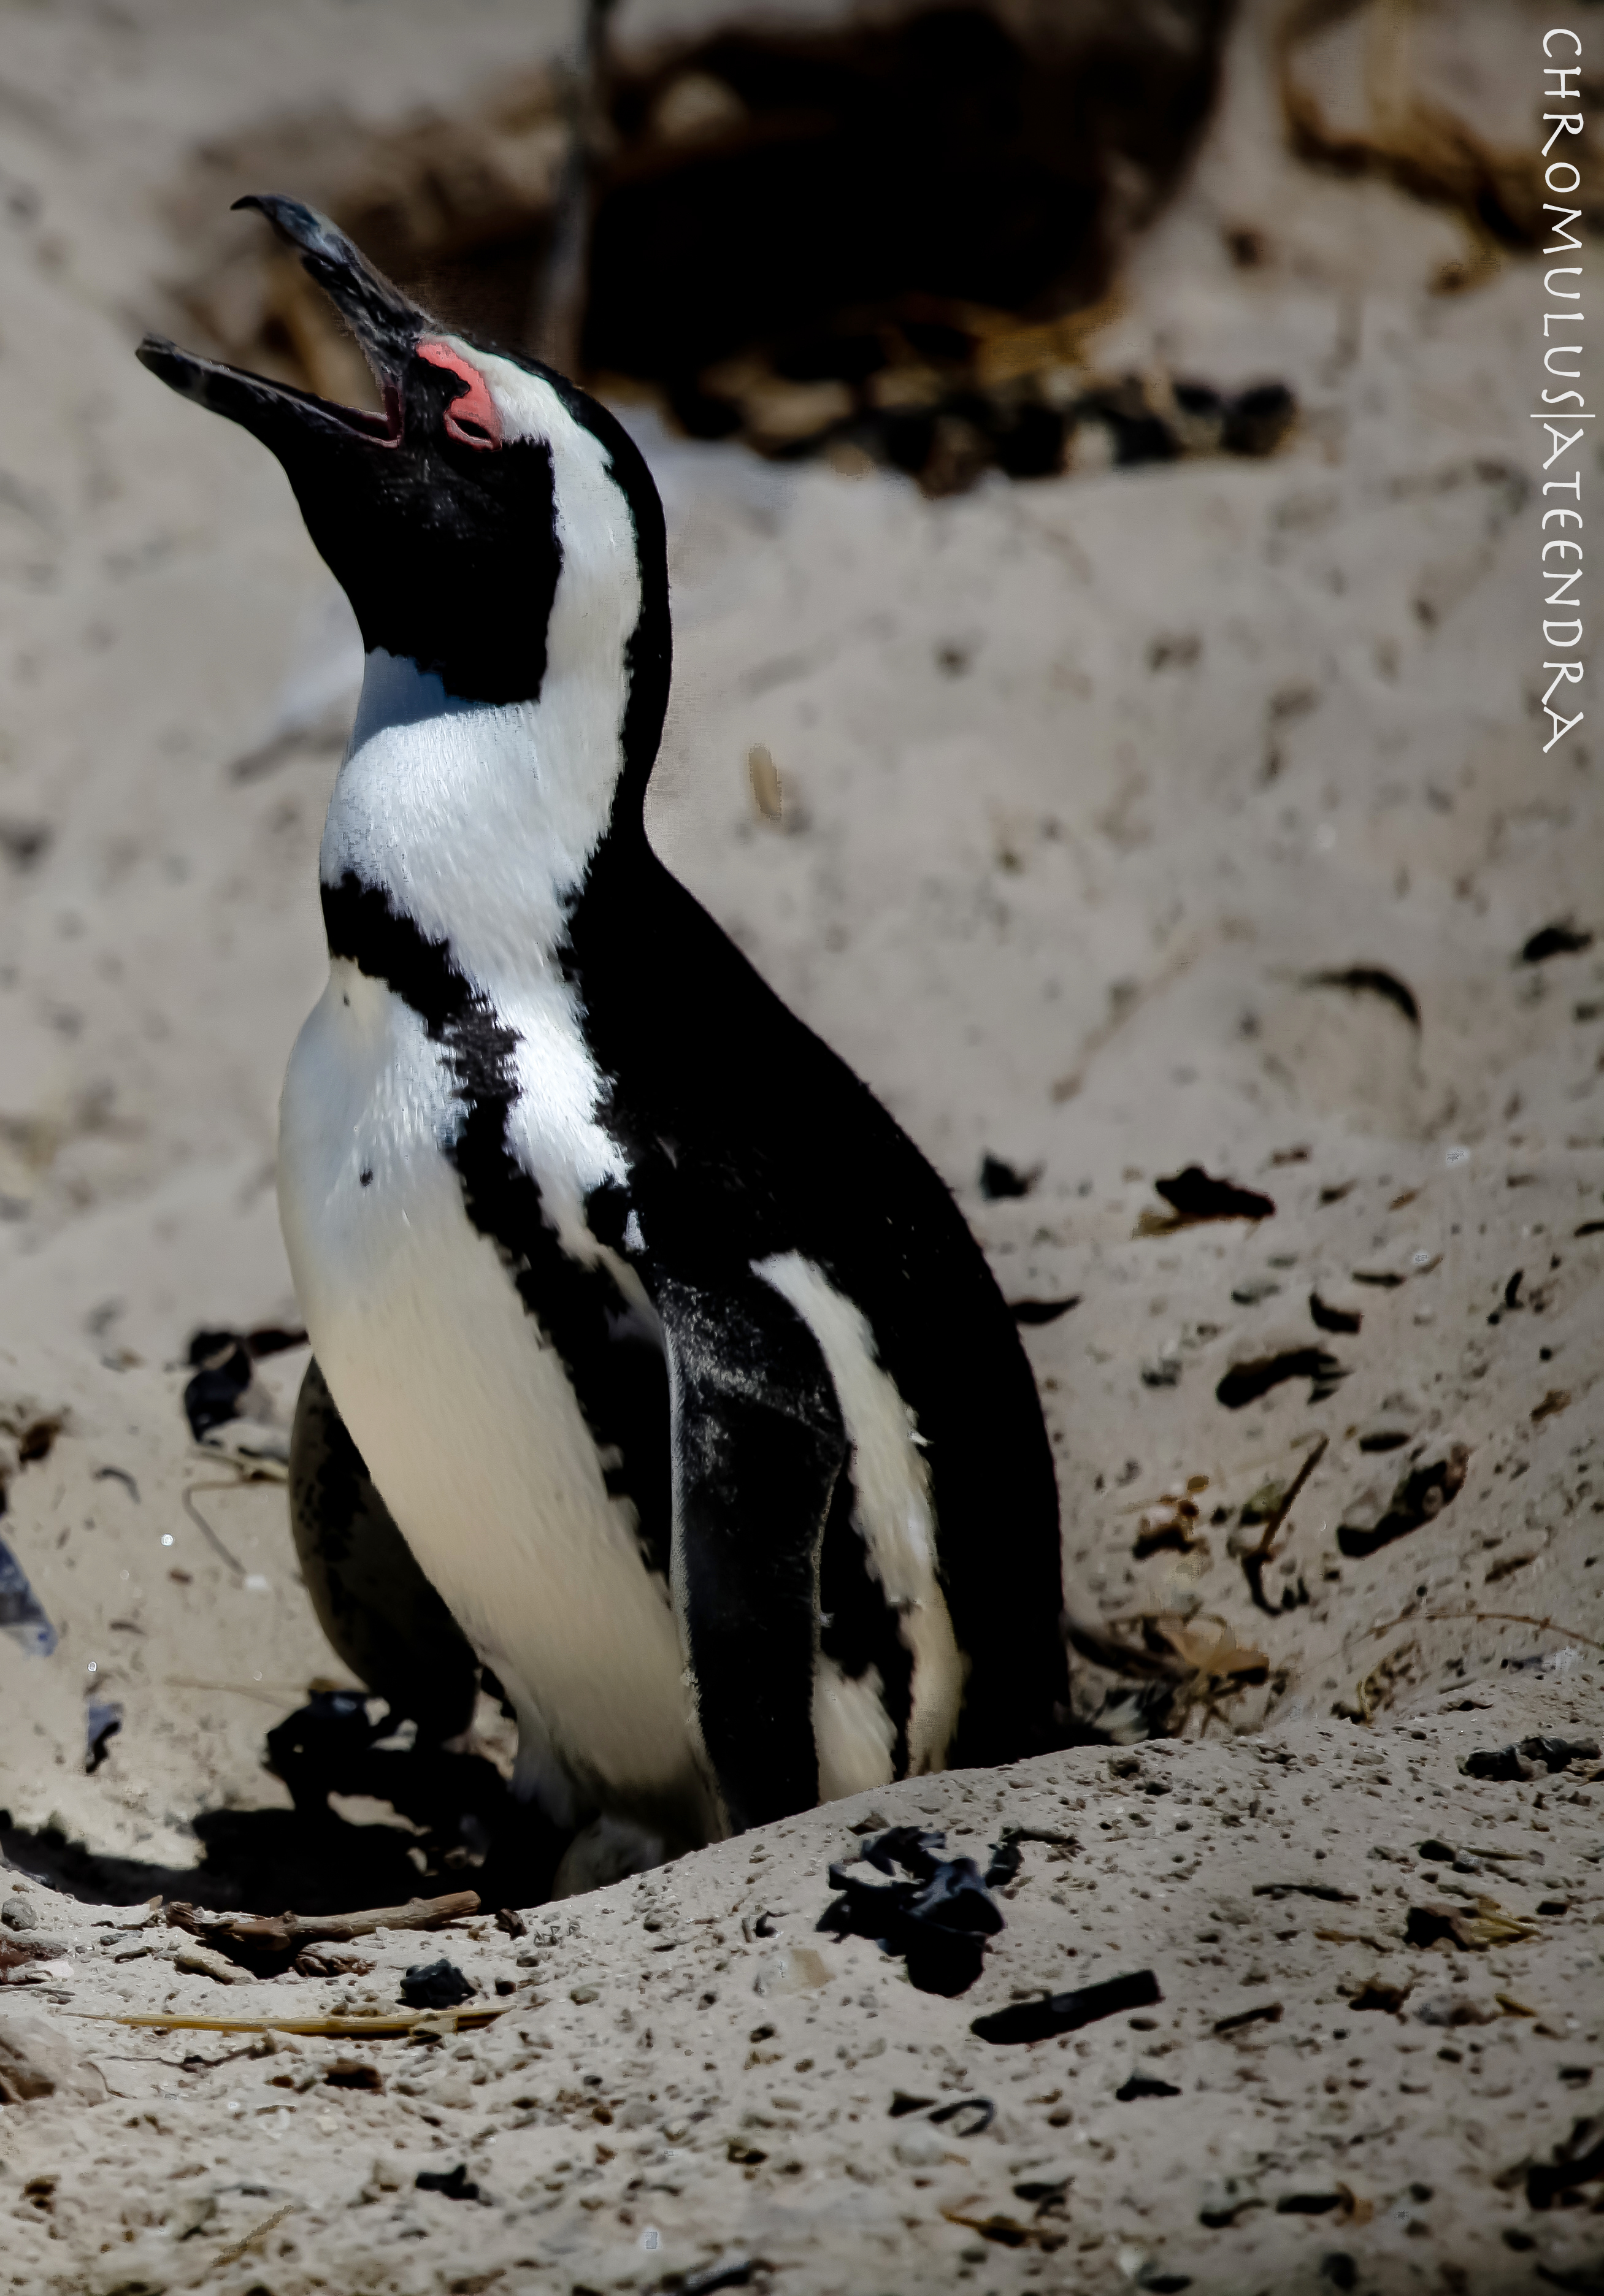penguin: (113, 176, 1114, 1942)
